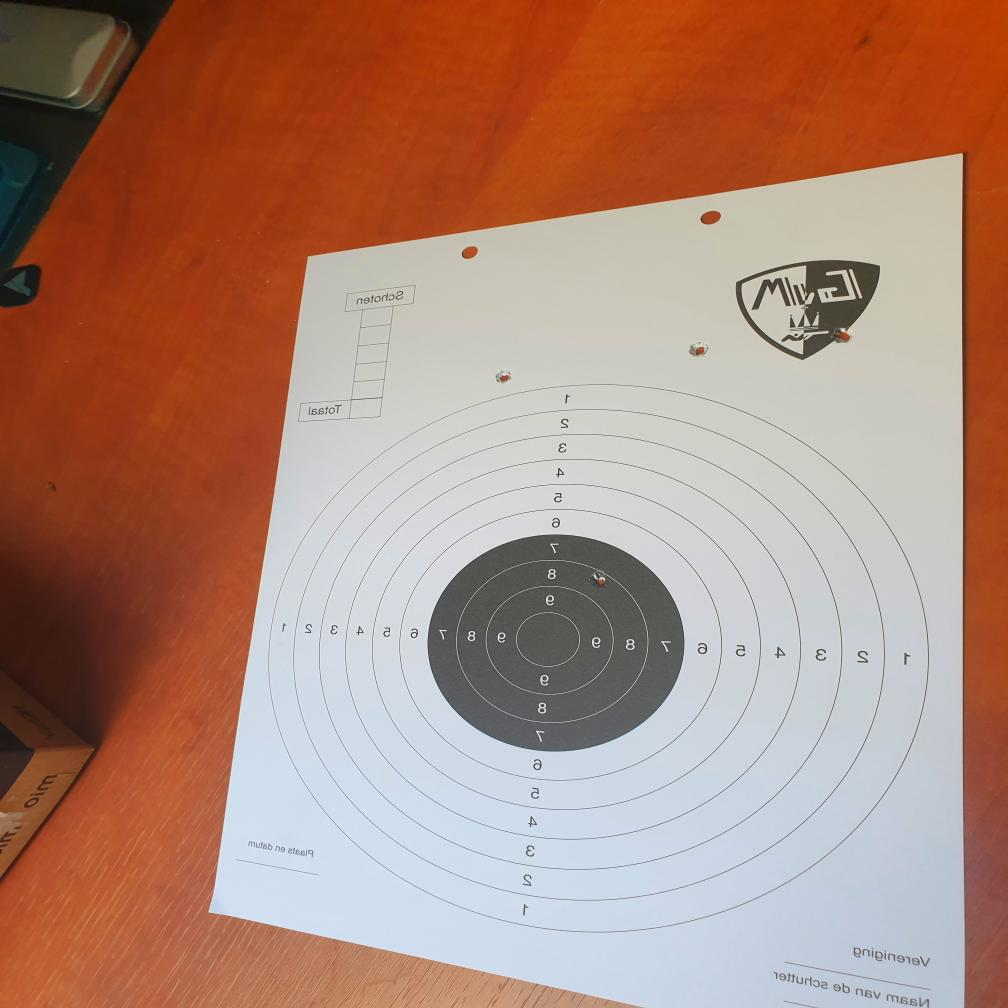0: (829, 327, 856, 344), (689, 342, 710, 358), (495, 370, 513, 384)
8: (587, 570, 608, 589)
Target: (264, 385, 928, 934)
black_contour: (427, 534, 686, 752)
